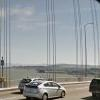Car: (18, 71, 73, 100)
